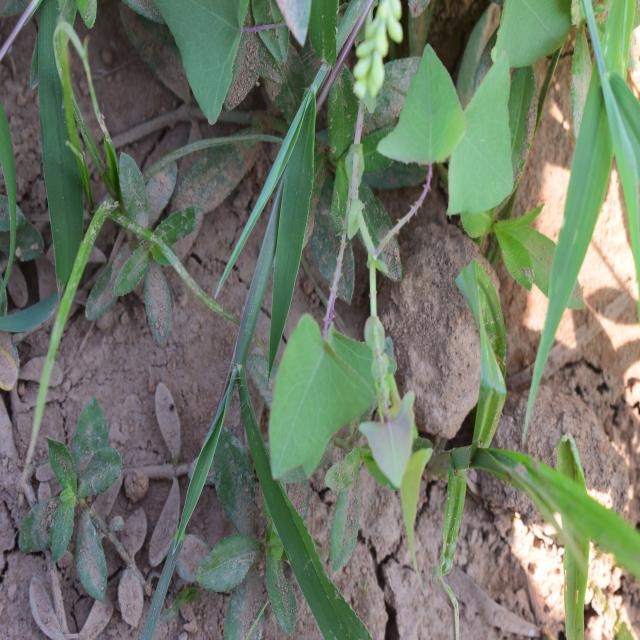Asiatic_Smartweed: (264, 294, 442, 489), (380, 38, 532, 254)
